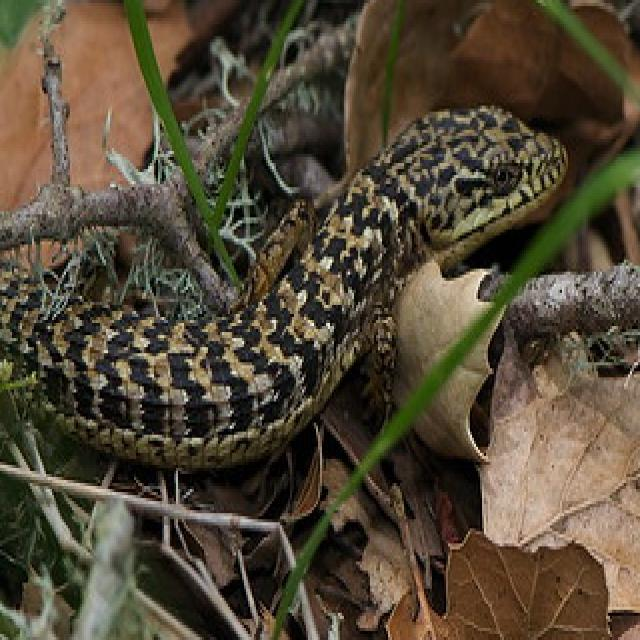Snake: (0, 94, 570, 474)
